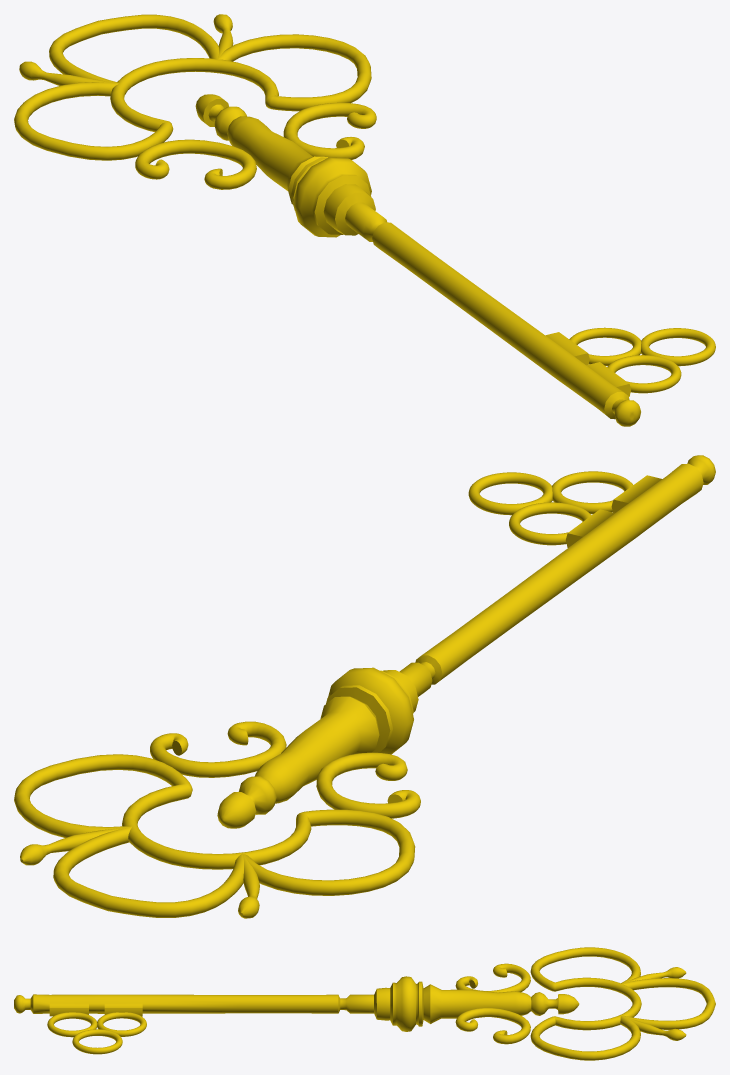
Rendered from Key.fbx.
The picture shows the model from 3 angles, top to bottom: view 1: azimuth 30°, elevation 25°; view 2: azimuth 150°, elevation 25°; view 3: azimuth 270°, elevation 25°; orthographic projection. The views are drawn at different scales.
Parts seen in each view (by area): view 1: Key; view 2: Key; view 3: Key.
Part boxes in pixels (<box>): Key: <box>14,14,715,426</box>; Key: <box>14,455,715,918</box>; Key: <box>14,947,715,1060</box>.
Size of the model in its own units: 167 by 458 by 36.42.
